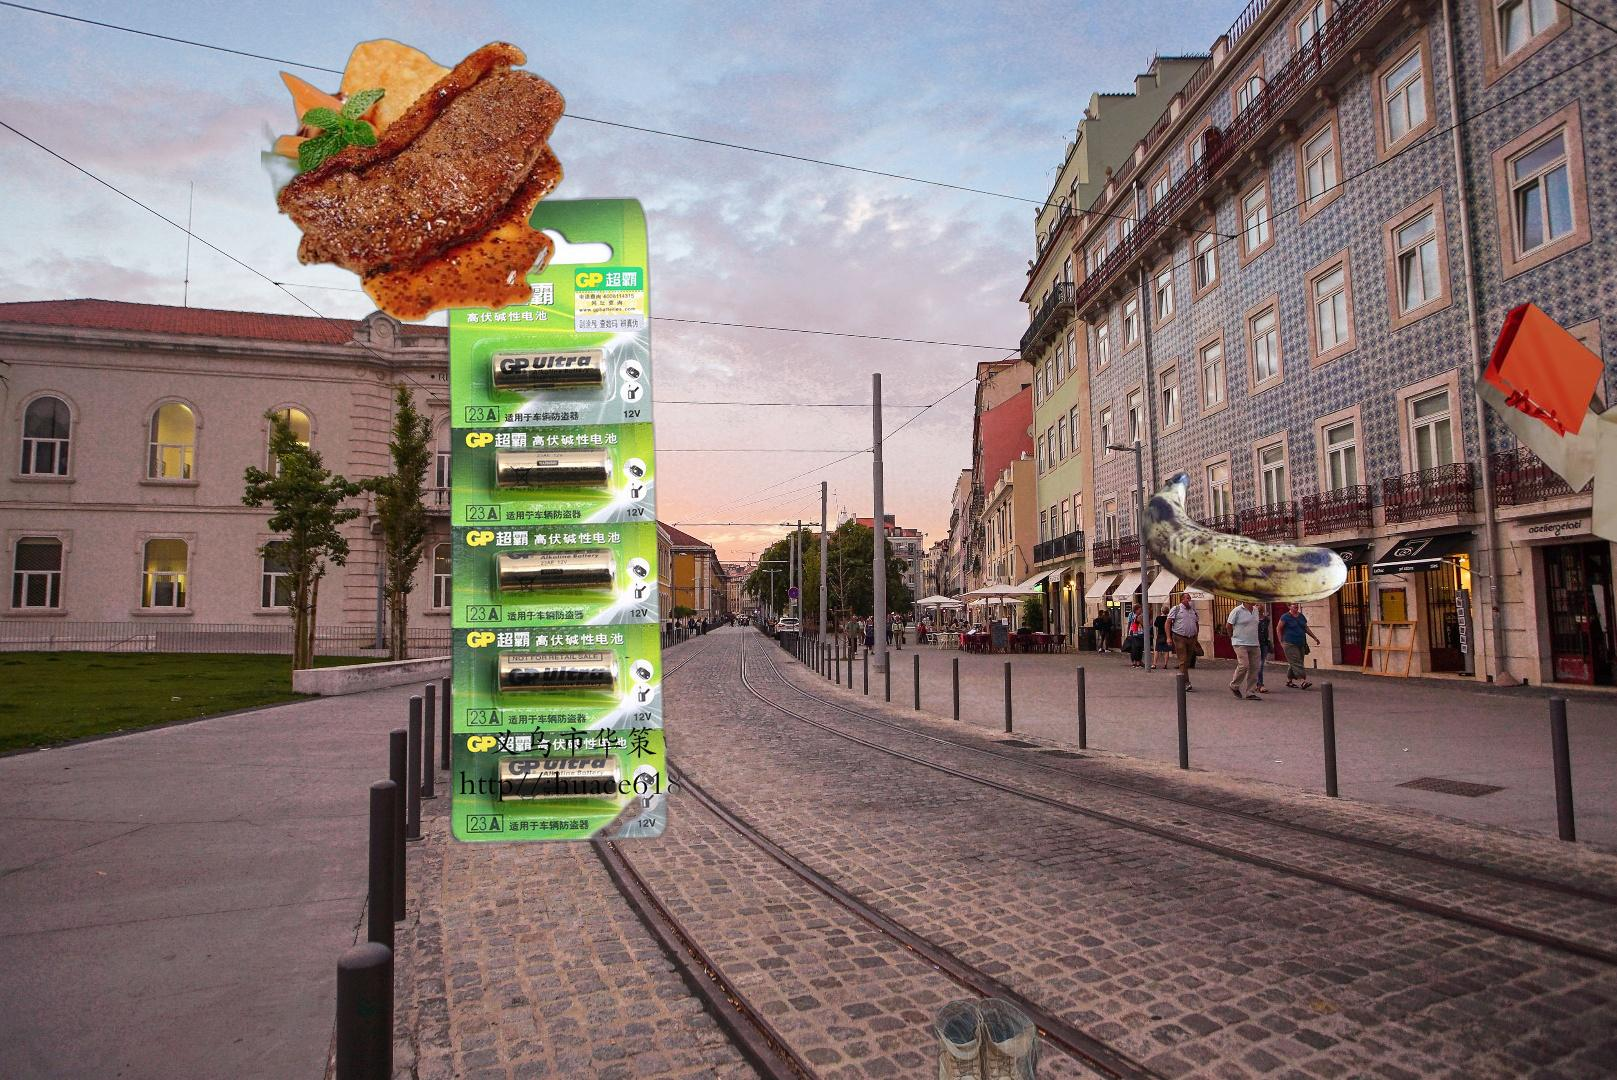battery: (440, 190, 745, 851)
biological: (261, 35, 569, 325), (1137, 470, 1351, 607)
paper-bag: (1470, 298, 1617, 550)
shoes: (929, 994, 1042, 1080)
